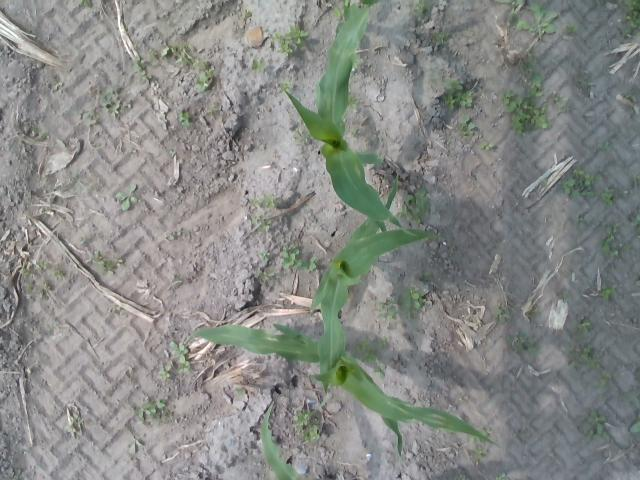Maize: (186, 320, 507, 460), (308, 174, 436, 420), (287, 0, 417, 240), (260, 400, 333, 480)
Weeds: (501, 74, 549, 135), (515, 3, 557, 40), (396, 185, 430, 228), (561, 167, 604, 200), (273, 24, 308, 57), (440, 76, 473, 110), (580, 409, 612, 442), (280, 244, 316, 273), (566, 342, 602, 370), (100, 87, 132, 118), (88, 248, 124, 275), (294, 409, 322, 443), (598, 218, 621, 258), (400, 284, 427, 318), (133, 397, 167, 423), (617, 0, 640, 38), (507, 330, 540, 356), (193, 59, 216, 94), (160, 43, 194, 66), (352, 336, 378, 364), (548, 88, 572, 116), (496, 0, 524, 24), (170, 340, 190, 373), (70, 108, 100, 128), (115, 184, 138, 210), (456, 114, 479, 140), (377, 296, 398, 320), (134, 55, 150, 84), (519, 51, 539, 74), (249, 193, 279, 208), (573, 319, 594, 340), (470, 425, 492, 444), (250, 211, 270, 231), (63, 414, 82, 434), (292, 126, 310, 146), (493, 306, 513, 324), (619, 390, 640, 407), (598, 282, 617, 300), (600, 185, 616, 205), (178, 110, 193, 130), (412, 0, 429, 16), (70, 174, 86, 191), (529, 304, 544, 322), (598, 370, 612, 389), (251, 57, 267, 73), (426, 66, 438, 87), (564, 21, 580, 36), (472, 445, 488, 460), (204, 103, 222, 116), (30, 128, 48, 141), (632, 208, 640, 236), (373, 364, 387, 380), (158, 365, 172, 380), (578, 76, 594, 89), (431, 31, 449, 42), (476, 140, 494, 151), (278, 80, 292, 94), (600, 139, 614, 153), (130, 437, 142, 453), (332, 5, 346, 18), (629, 420, 640, 436), (346, 92, 356, 109), (40, 262, 57, 272), (258, 248, 270, 262), (259, 271, 274, 281), (352, 54, 362, 69), (52, 268, 67, 278), (378, 334, 388, 348), (624, 92, 637, 102), (80, 236, 94, 244), (496, 472, 510, 480), (421, 272, 432, 282), (560, 289, 570, 300), (242, 9, 254, 18), (38, 283, 50, 292), (149, 48, 158, 60), (621, 243, 633, 252), (234, 388, 246, 397), (563, 268, 573, 278), (52, 80, 62, 90), (631, 173, 640, 184), (78, 0, 92, 7), (349, 127, 358, 137), (572, 218, 582, 227), (20, 268, 29, 276), (540, 177, 548, 186), (456, 474, 468, 480), (450, 246, 456, 253), (170, 150, 177, 154)
